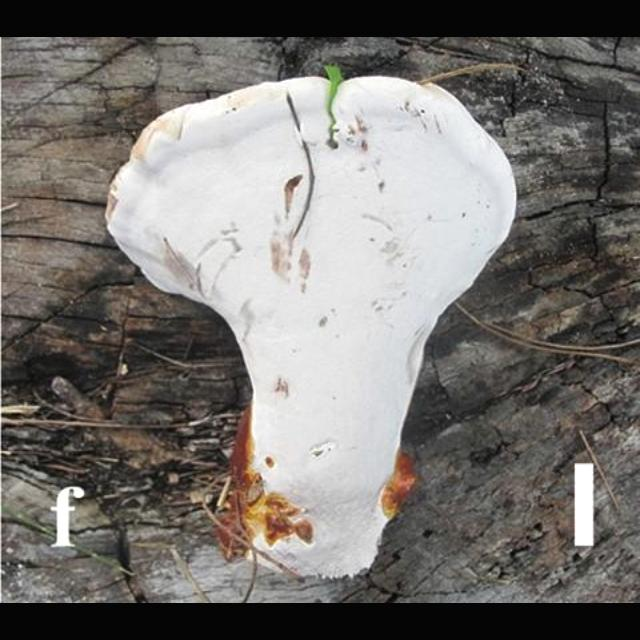primordium: (106, 75, 519, 336)
